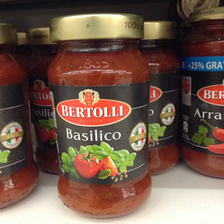tomato_sauce: (45, 10, 153, 218), (179, 8, 224, 178)
